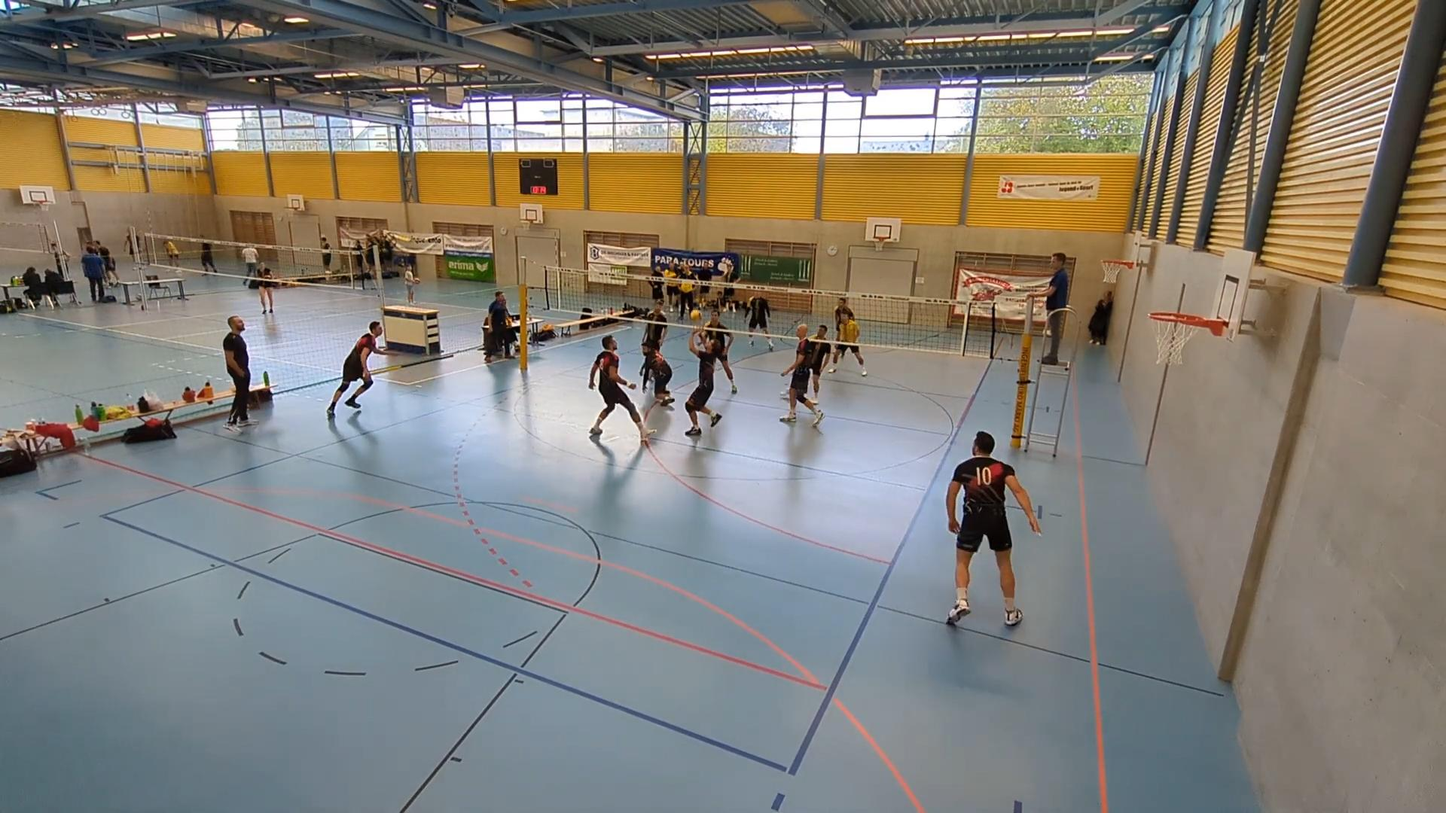alzata: (681, 325, 735, 441)
